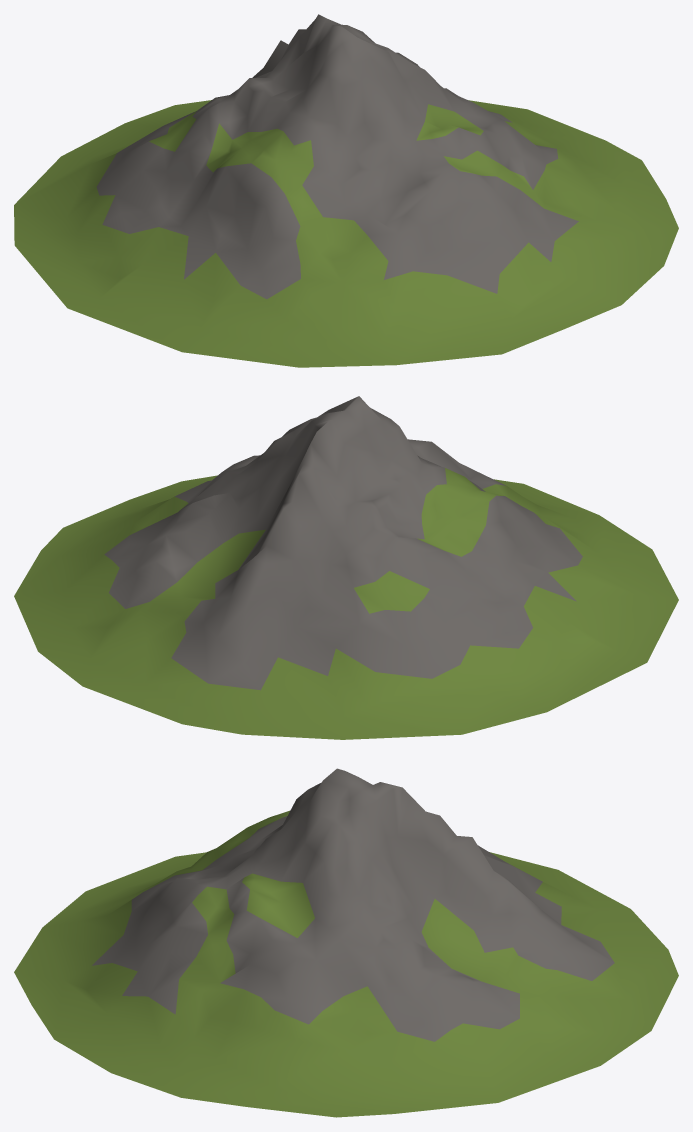
Rendered from rpgpp_ag_mountain_04.fbx.
The picture shows the model from 3 angles, top to bottom: view 1: azimuth 30°, elevation 25°; view 2: azimuth 150°, elevation 25°; view 3: azimuth 270°, elevation 25°; orthographic projection.
Parts seen in each view (by area): view 1: rpgpp_ag_mountain_04; view 2: rpgpp_ag_mountain_04; view 3: rpgpp_ag_mountain_04.
Boxes of the visible parts, x1,y1,x2,y2 form: rpgpp_ag_mountain_04: [14, 14, 678, 367]; rpgpp_ag_mountain_04: [14, 396, 678, 739]; rpgpp_ag_mountain_04: [14, 768, 678, 1117].
Size of the model in its own units: 199 by 67.74 by 199.
